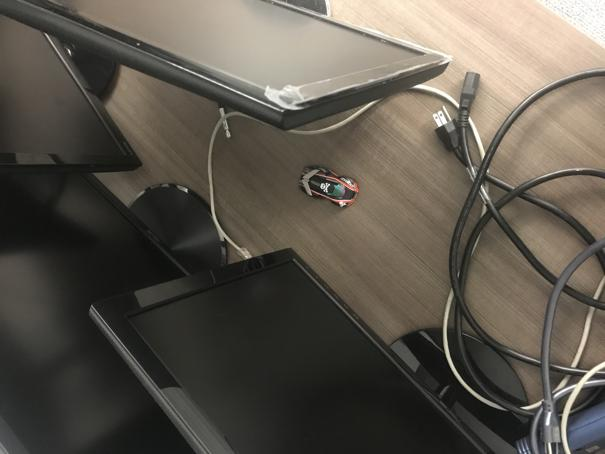Skull: (299, 165, 362, 208)
